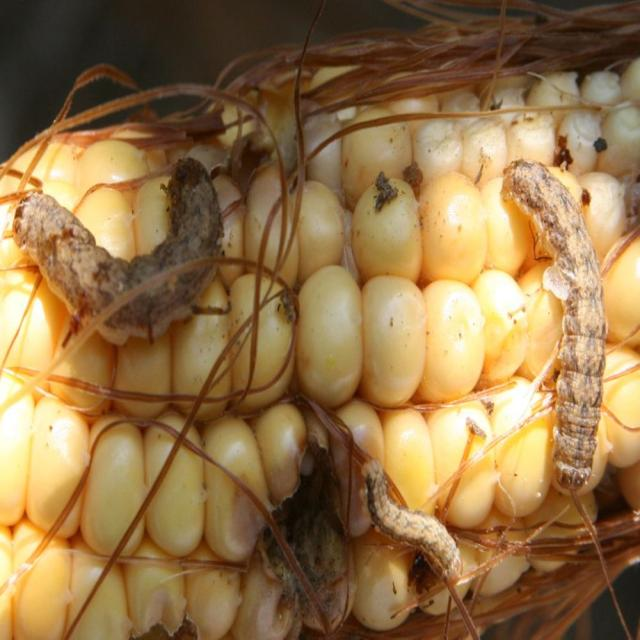worm: (13, 156, 225, 349), (501, 158, 608, 492), (356, 450, 467, 600)
